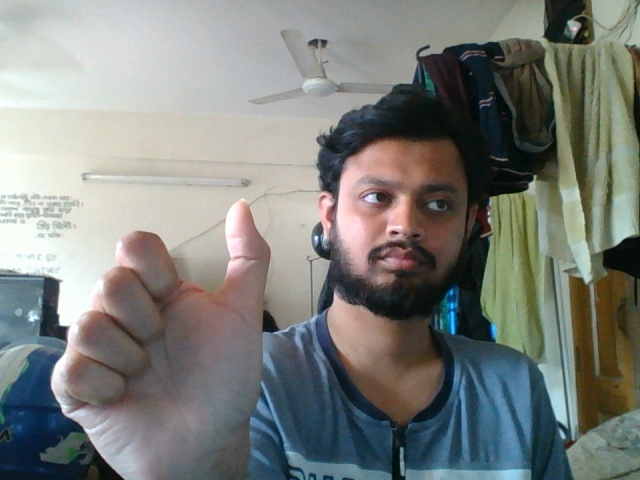dho: (57, 187, 278, 480)
